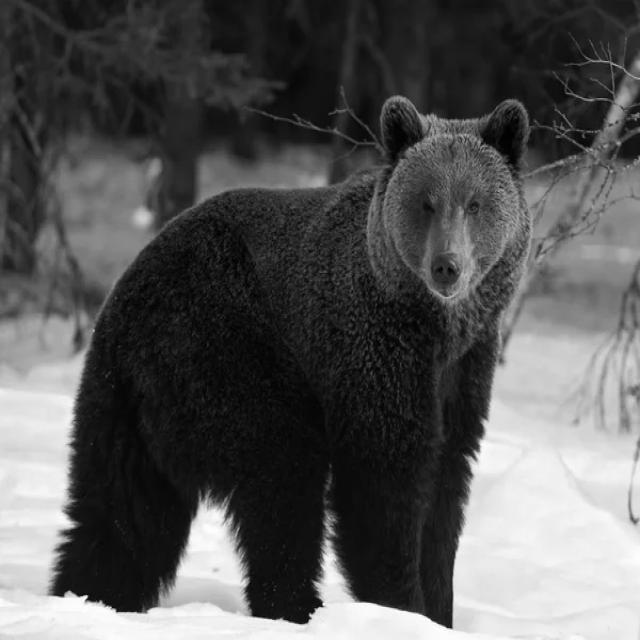Animal: (52, 97, 532, 627)
